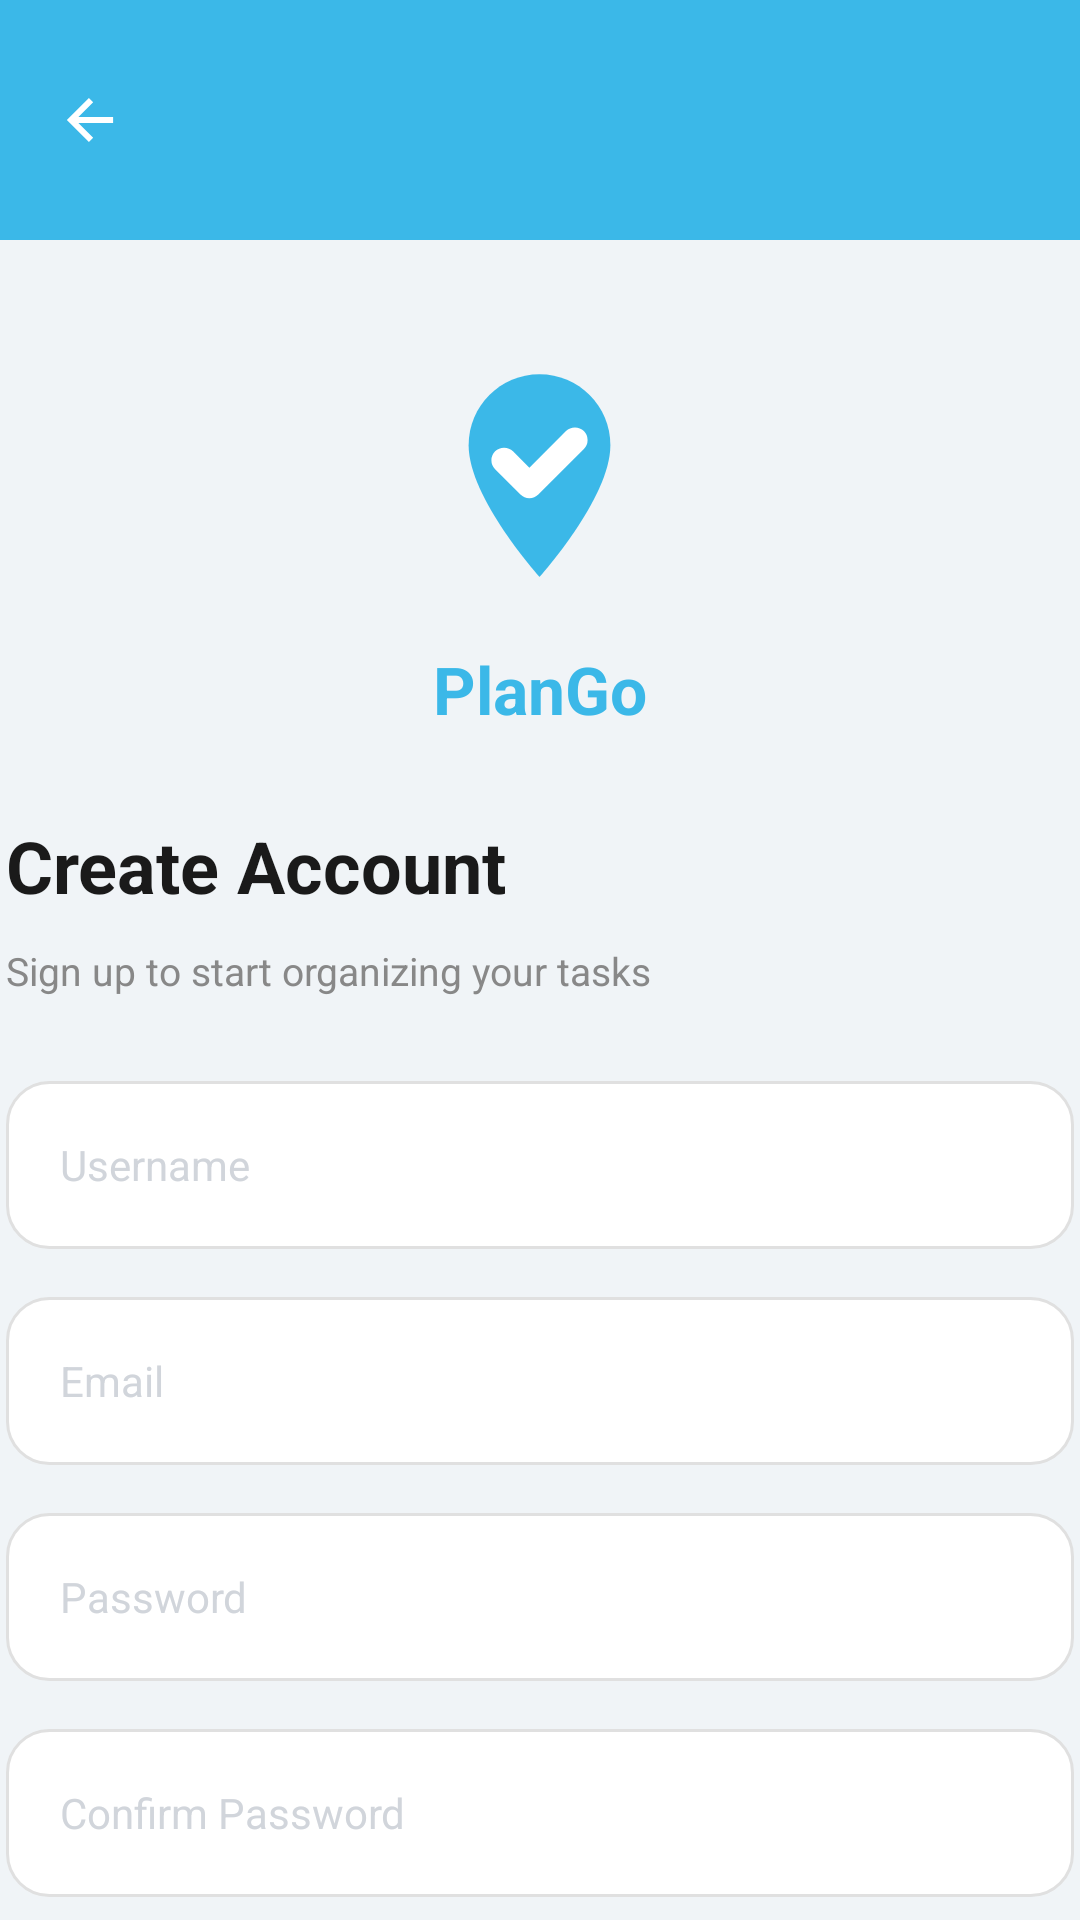

Named icons in this screenshot (1080×1920) and their bounding boxes, (x1, y1, x2, y2):
Cancel: (67, 98, 113, 142)
